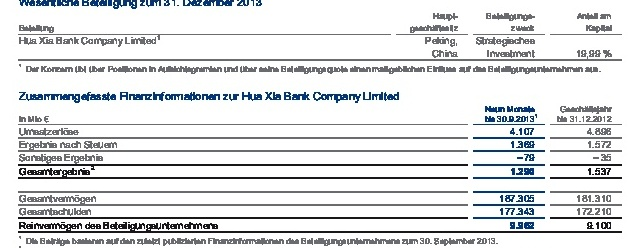table: (0, 0, 641, 248)
